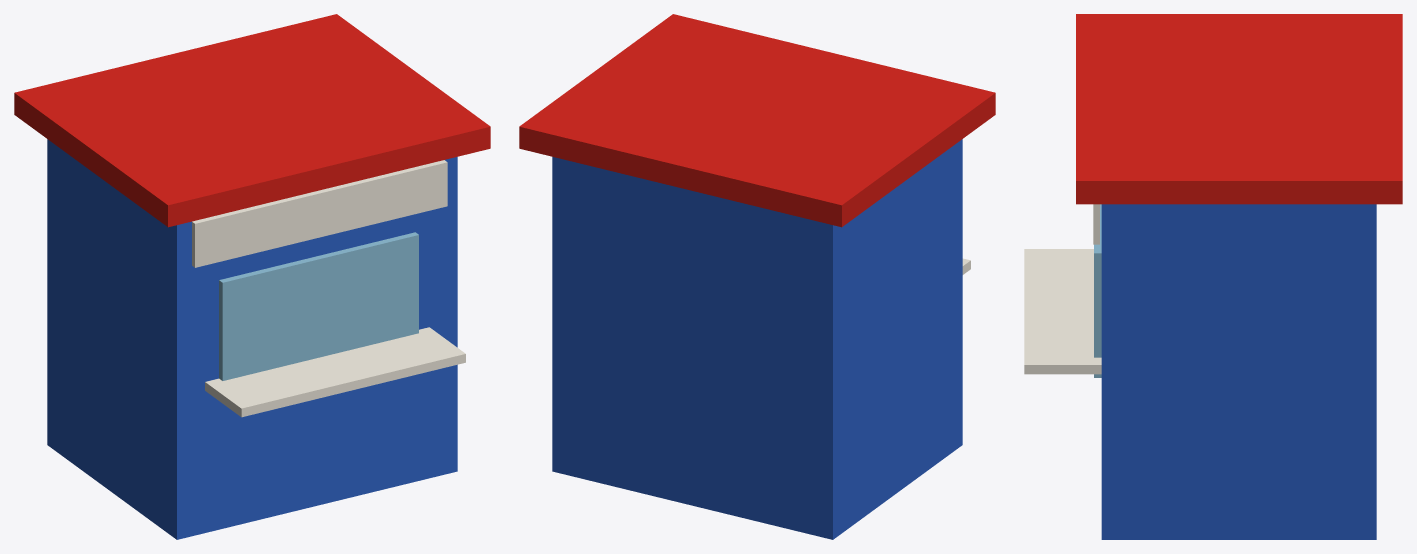
File: kiosk.glb
The picture shows the model from 3 angles, left to right: view 1: azimuth 30°, elevation 25°; view 2: azimuth 150°, elevation 25°; view 3: azimuth 270°, elevation 25°; orthographic projection. The views are drawn at different scales.
Visible parts, largest first — view 1: kiosk; view 2: kiosk; view 3: kiosk.
Boxes of the visible parts, x1,y1,x2,y2 form: kiosk: [14, 14, 490, 539]; kiosk: [519, 14, 995, 539]; kiosk: [1024, 14, 1402, 539].
Bounding box in the file's own units: 2.3 × 2.38 × 2.2.
